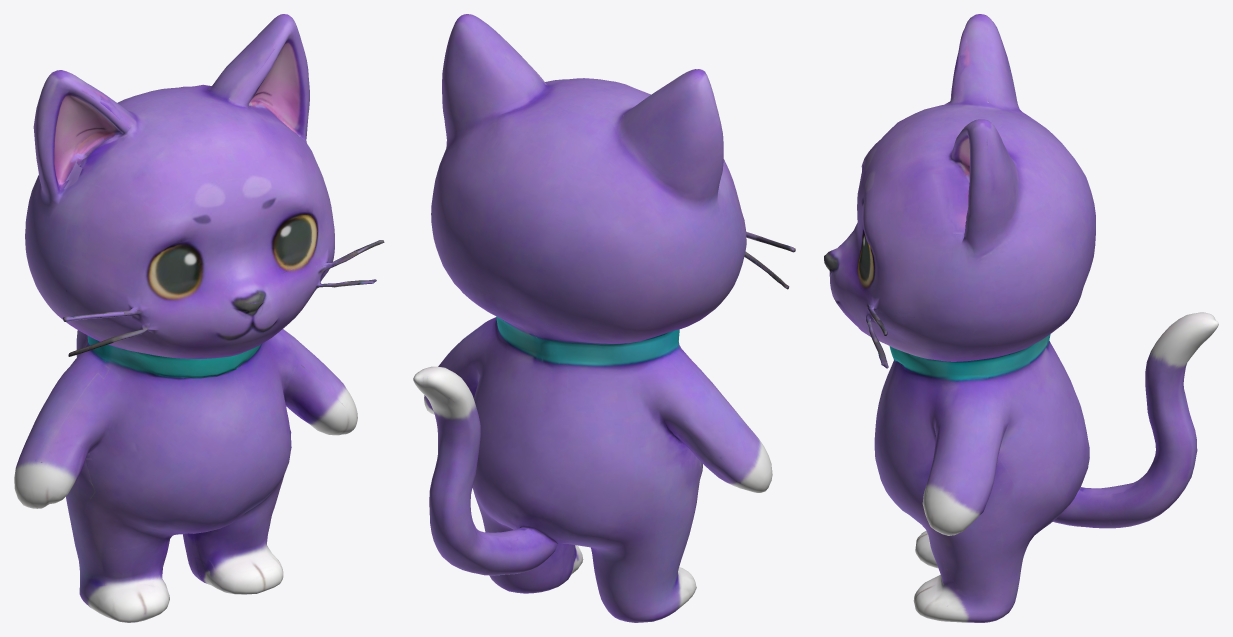
The model's file is con_meo.glb.
3 renders of one model, left to right at view 1: azimuth 30°, elevation 25°; view 2: azimuth 150°, elevation 25°; view 3: azimuth 270°, elevation 25°, orthographic. The views are drawn at different scales.
Visible parts, largest first — view 1: Mesh_0; view 2: Mesh_0; view 3: Mesh_0.
Part boxes in pixels (<box>): Mesh_0: <box>14,14,384,622</box>; Mesh_0: <box>413,14,795,622</box>; Mesh_0: <box>824,14,1218,622</box>.
Size of the model in its own units: 1.28 by 2 by 1.37.
1 material, 1 textured.
